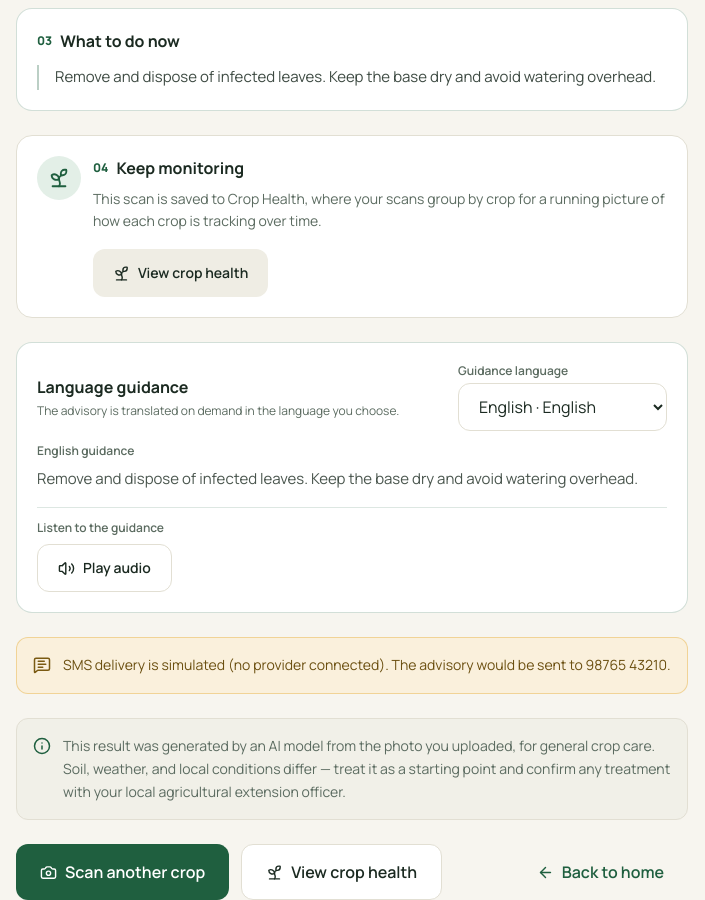
Test: ScanResult — guidance language and audio › speaks the English advisory when an English voice is available
(page scrolled)
Click the button with aria-label "Play English audio".
click(104, 568)  # box [37,544,172,592]
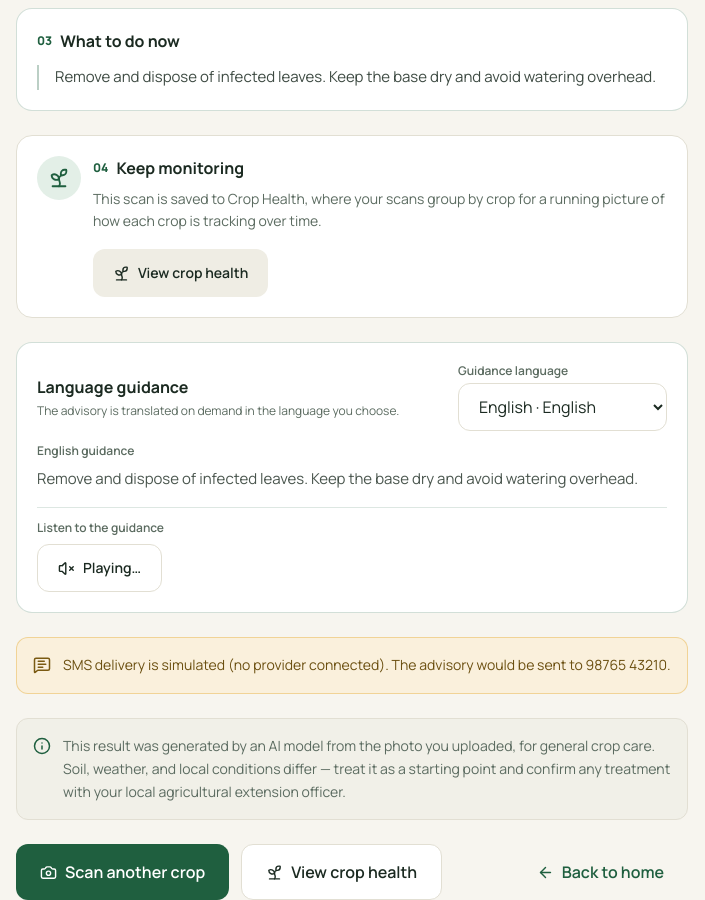
Check: the button with aria-label "Stop English audio" is shown, box [37,544,162,592]
